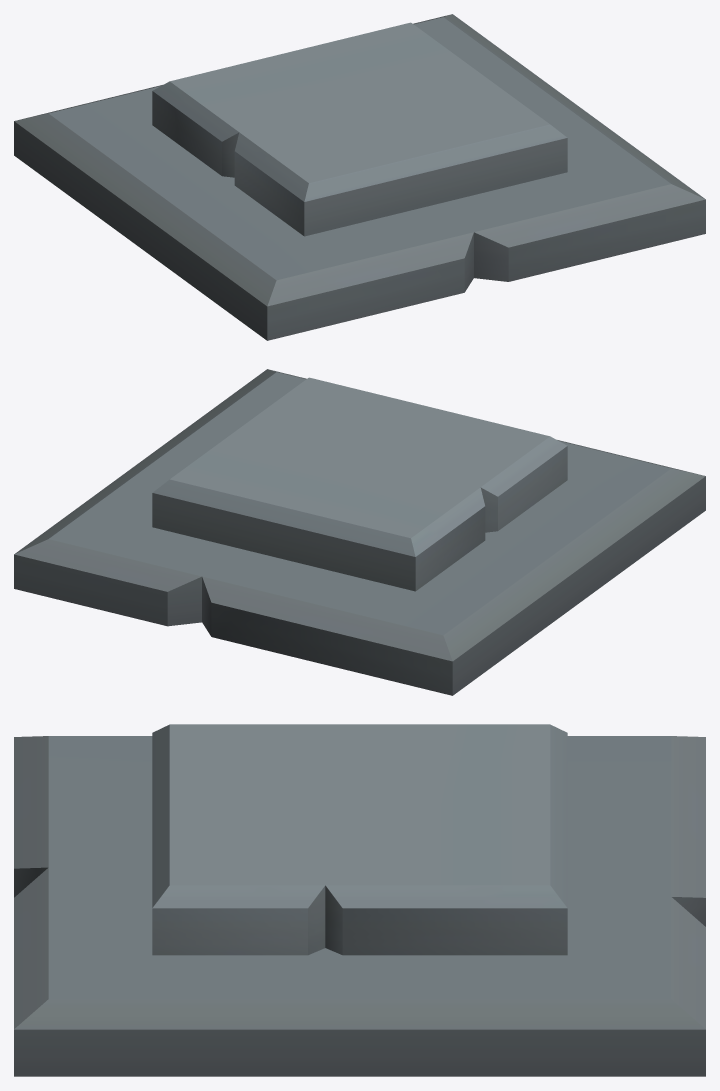
File: plaque.glb
3 views of the same model, one above another, from view 1: azimuth 30°, elevation 25°; view 2: azimuth 150°, elevation 25°; view 3: azimuth 270°, elevation 25° (orthographic). The views are drawn at different scales.
Parts seen in each view (by area): view 1: plaque; view 2: plaque; view 3: plaque.
Boxes of the visible parts, x1,y1,x2,y2 form: plaque: (14,14,705,340); plaque: (14,369,705,695); plaque: (14,724,705,1076).
Bounding box in the file's own units: 2 × 0.3999 × 2.
Materials: 1 (1 with a texture image).
